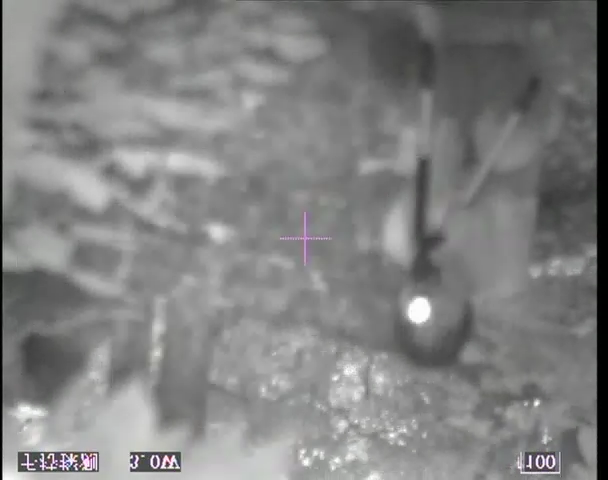my: (405, 295, 431, 324)
